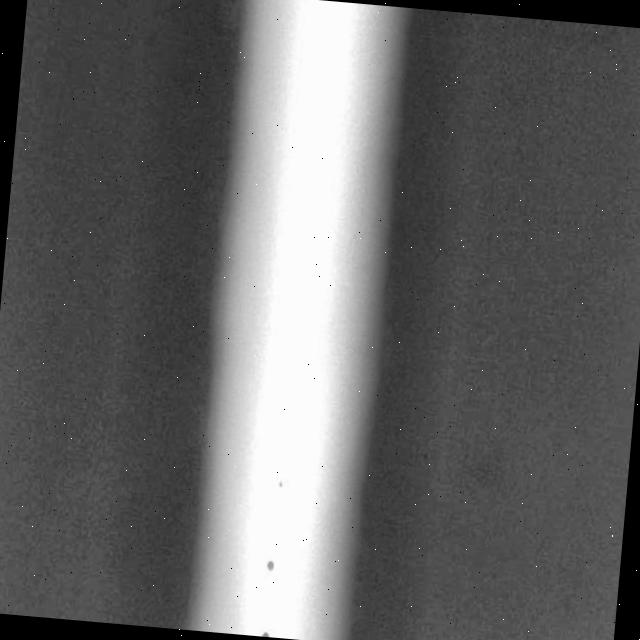Pore: (248, 551, 280, 583), (266, 467, 290, 499), (255, 624, 284, 638)
